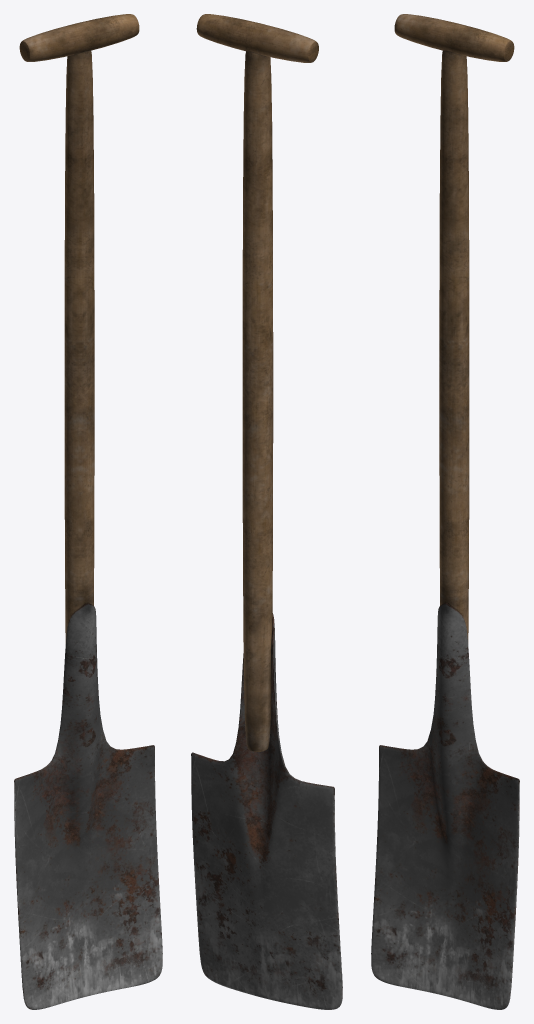
3 renders of one model, left to right at view 1: azimuth 30°, elevation 25°; view 2: azimuth 150°, elevation 25°; view 3: azimuth 330°, elevation 25°, orthographic. The views are drawn at different scales.
Parts seen in each view (by area): view 1: rusted_spade_01; view 2: rusted_spade_01; view 3: rusted_spade_01.
Part boxes in pixels (left/top/right/bottom): rusted_spade_01: left=14, top=14, right=162, bottom=1009; rusted_spade_01: left=191, top=14, right=342, bottom=1009; rusted_spade_01: left=371, top=14, right=519, bottom=1009.
Size of the model in its own units: 0.1681 by 1.1 by 0.0456.
1 material, 1 textured.
